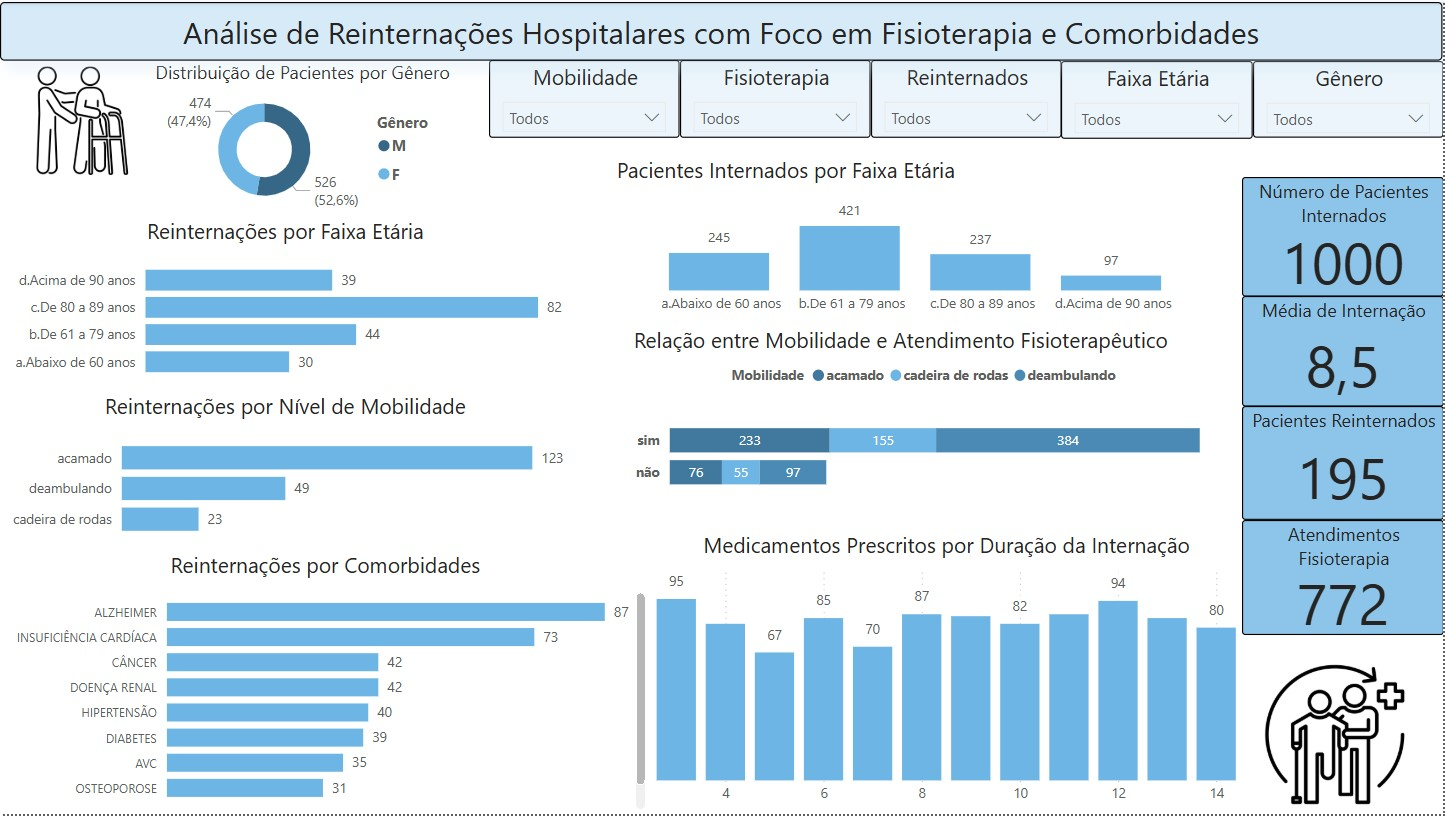

The page's visual inventory and layout, read from the dashboard file:
{"tool":"powerbi","page":{"name":"Página 1","canvas":[1280,720],"ordinal":0},"visuals":[{"type":"donutChart","title":"Distribuição de Pacientes por Gênero","fields":{"Category":["pacientes_hospital.sexo"],"Y":["Count(pacientes_hospital.id_paciente)"]},"box":[129.2,51.7,277.7,137.8],"z":0},{"type":"columnChart","title":"Pacientes Internados por Faixa Etária","fields":{"Category":["pacientes_hospital.Faixa_Etaria"],"Y":["Count(pacientes_hospital.id_paciente)"]},"box":[541.9,135.5,542.8,150.4],"z":1000},{"type":"barChart","title":"Relação entre Mobilidade e Atendimento Fisioterapêutico","fields":{"Y":["Count(pacientes_hospital.id_paciente)"],"Category":["pacientes_hospital.fisioterapia_realizada"],"Series":["pacientes_hospital.mobilidade"]},"box":[556.6,286.4,528.6,173.3],"z":2000},{"type":"card","title":"Número de Pacientes Internados","fields":{"Values":["Count(pacientes_hospital.id_paciente)"]},"box":[1101.3,155,178.7,105.5],"z":3000},{"type":"card","title":"Média de Internação ","fields":{"Values":["Avg(pacientes_hospital.tempo_internacao(em dias))"]},"box":[1101.3,260.5,178.7,98],"z":4000},{"type":"card","title":"Pacientes Reinternados","fields":{"Values":["CountNonNull(pacientes_hospital.reinternado_30dias)"]},"box":[1101.3,358.5,178.7,101.2],"z":5000},{"type":"barChart","title":"Reinternações por Faixa Etária","fields":{"Category":["pacientes_hospital.Faixa_Etaria"],"Y":["CountNonNull(pacientes_hospital.Pacientes_Reinternados_30dias)"]},"box":[0,189.5,506,153.9],"z":6000},{"type":"card","title":"Atendimentos Fisioterapia","fields":{"Values":["CountNonNull(pacientes_hospital.fisioterapia_realizada)"]},"box":[1101.3,459.7,178.7,102.3],"z":7000},{"type":"slicer","title":"Gênero","fields":{"Values":["pacientes_hospital.sexo"]},"box":[1111,52.8,169,67.8],"z":8000},{"type":"slicer","title":"Faixa Etária","fields":{"Values":["pacientes_hospital.Faixa_Etaria"]},"box":[940.9,52.8,170.1,68.9],"z":9000},{"type":"slicer","title":"Reinternados","fields":{"Values":["pacientes_hospital.Pacientes_Reinternados_30dias"]},"box":[771.9,51.7,169,68.9],"z":10000},{"type":"slicer","title":"Fisioterapia","fields":{"Values":["pacientes_hospital.fisioterapia_realizada"]},"box":[602.9,51.7,169,68.9],"z":11000},{"type":"slicer","title":"Mobilidade","fields":{"Values":["pacientes_hospital.mobilidade"]},"box":[433.8,51.7,169,68.9],"z":12000},{"type":"barChart","title":"Reinternações por Nível de Mobilidade","fields":{"Y":["CountNonNull(pacientes_hospital.Pacientes_Reinternados_30dias)"],"Category":["pacientes_hospital.mobilidade"]},"box":[0,344.5,506,141],"z":13000},{"type":"clusteredBarChart","title":"Reinternações por Comorbidades","fields":{"Category":["comorbidades_pacientes.Comorbidade_Normalizada"],"Y":["pacientes_hospital.Pacientes Reinternados por Comorbidade"]},"box":[0,485.5,577,234.7],"z":14000},{"type":"lineStackedColumnComboChart","title":"Medicamentos Prescritos por Duração da Internação","fields":{"Category":["pacientes_hospital.tempo_internacao(em dias)"],"Y":["CountNonNull(pacientes_hospital.numero_medicamentos)"]},"box":[577.4,468.1,524.1,252.3],"z":15000},{"type":"image","box":[16.1,52.8,113,105.5],"z":16000},{"type":"image","box":[1111,579.2,145.3,141],"z":17000},{"type":"textbox","box":[0,0,1278.9,51.7],"z":18000}]}

Visuals, with their boxes in screenshot pixels (x1, y1, x2, y2), scaled from the page's 1280x720 canvas onto the 1445x818 screenshot:
"Distribuição de Pacientes por Gênero" donutChart: l=146, t=59, r=459, b=215
"Pacientes Internados por Faixa Etária" columnChart: l=612, t=154, r=1225, b=325
"Relação entre Mobilidade e Atendimento Fisioterapêutico" barChart: l=628, t=325, r=1225, b=522
"Número de Pacientes Internados" card: l=1243, t=176, r=1444, b=296
"Média de Internação " card: l=1243, t=296, r=1444, b=407
"Pacientes Reinternados" card: l=1243, t=407, r=1444, b=522
"Reinternações por Faixa Etária" barChart: l=0, t=215, r=571, b=390
"Atendimentos Fisioterapia" card: l=1243, t=522, r=1444, b=638
"Gênero" slicer: l=1254, t=60, r=1444, b=137
"Faixa Etária" slicer: l=1062, t=60, r=1254, b=138
"Reinternados" slicer: l=871, t=59, r=1062, b=137
"Fisioterapia" slicer: l=681, t=59, r=871, b=137
"Mobilidade" slicer: l=490, t=59, r=681, b=137
"Reinternações por Nível de Mobilidade" barChart: l=0, t=391, r=571, b=552
"Reinternações por Comorbidades" clusteredBarChart: l=0, t=552, r=651, b=817
"Medicamentos Prescritos por Duração da Internação" lineStackedColumnComboChart: l=652, t=532, r=1243, b=817
image: l=18, t=60, r=146, b=180
image: l=1254, t=658, r=1418, b=817
textbox: l=0, t=0, r=1444, b=59
